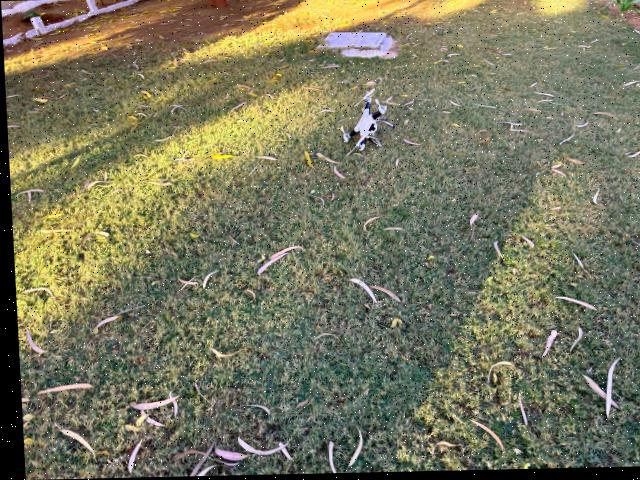drone: (300, 76, 430, 167)
